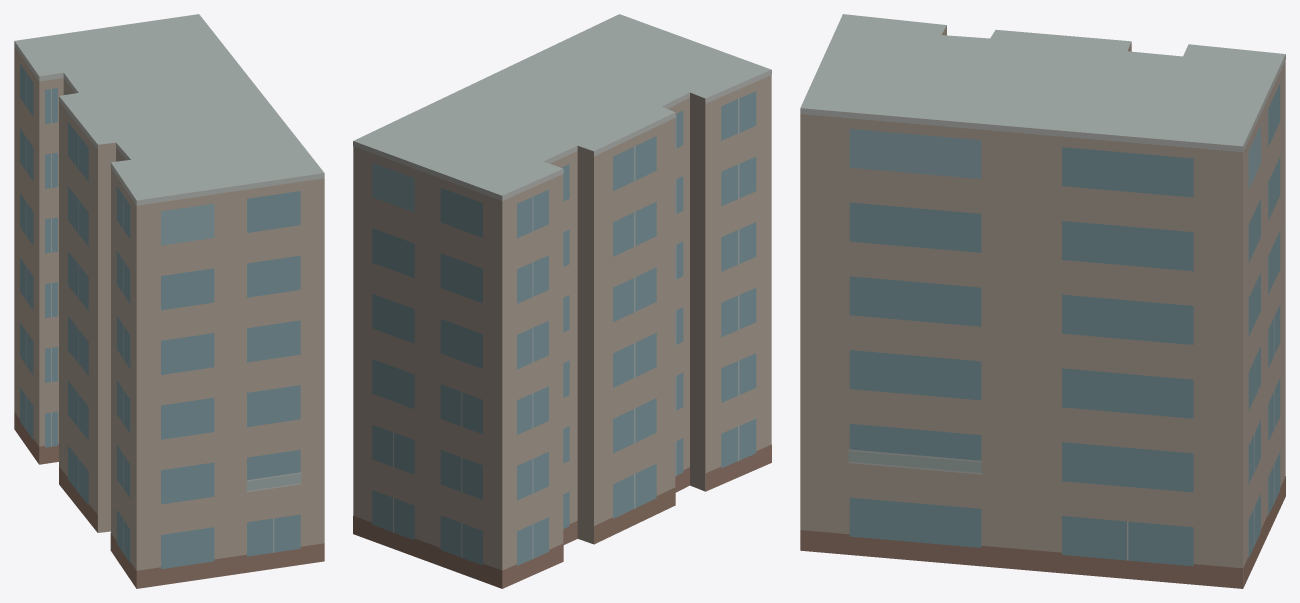
The model's file is survey-upis-32700444.glb.
3 views of the same model, side by side, from view 1: azimuth 30°, elevation 25°; view 2: azimuth 150°, elevation 25°; view 3: azimuth 270°, elevation 25° (orthographic). The views are drawn at different scales.
Parts seen in each view (by area): view 1: survey-upis-32700444.tmp; view 2: survey-upis-32700444.tmp; view 3: survey-upis-32700444.tmp.
Part boxes in pixels (x1,y1,x2,y2): survey-upis-32700444.tmp: (14, 14, 324, 588); survey-upis-32700444.tmp: (353, 14, 771, 588); survey-upis-32700444.tmp: (800, 14, 1285, 588).
Bounding box in the file's own units: 11.75 × 18.3 × 18.21.
